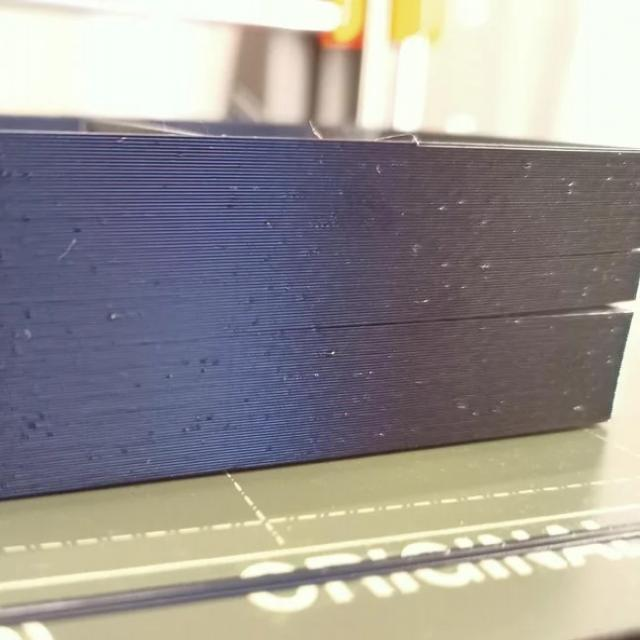Warping: (520, 289, 636, 321)
